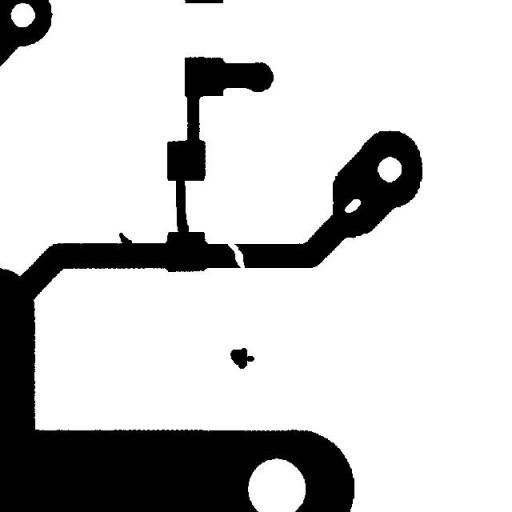copper: (222, 340, 262, 376)
open: (220, 234, 252, 276)
pin-hole: (337, 191, 368, 220)
short: (168, 166, 197, 244)
spur: (111, 225, 139, 253)
